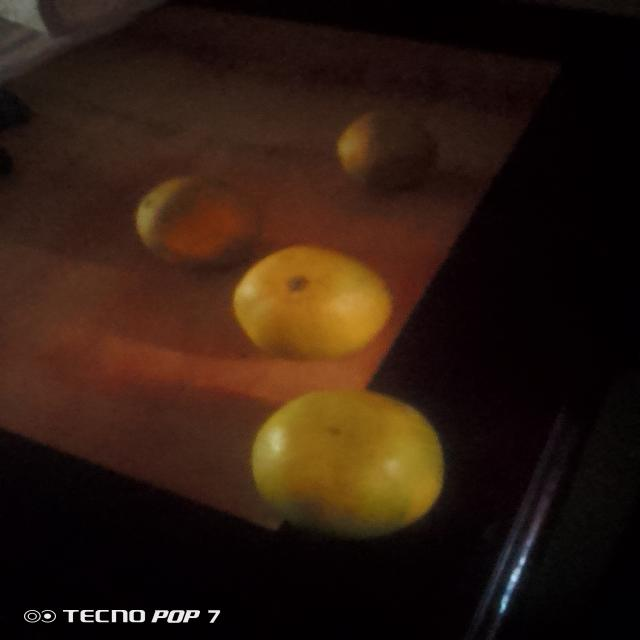Ripe orange: (228, 376, 458, 553), (228, 243, 402, 359), (128, 170, 251, 268), (332, 112, 424, 196)
